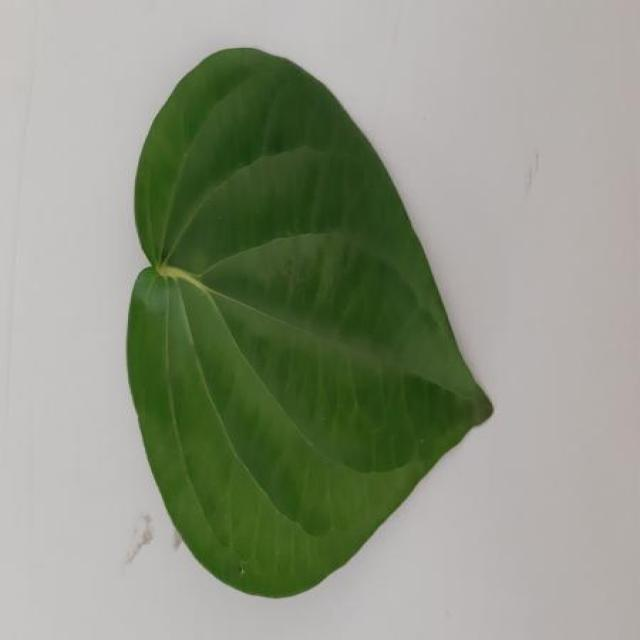betel: (128, 49, 492, 597)
